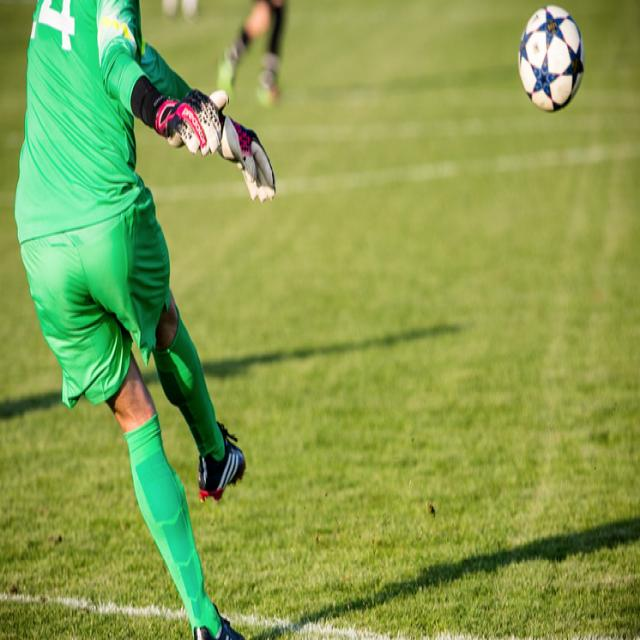football: (502, 0, 606, 132)
